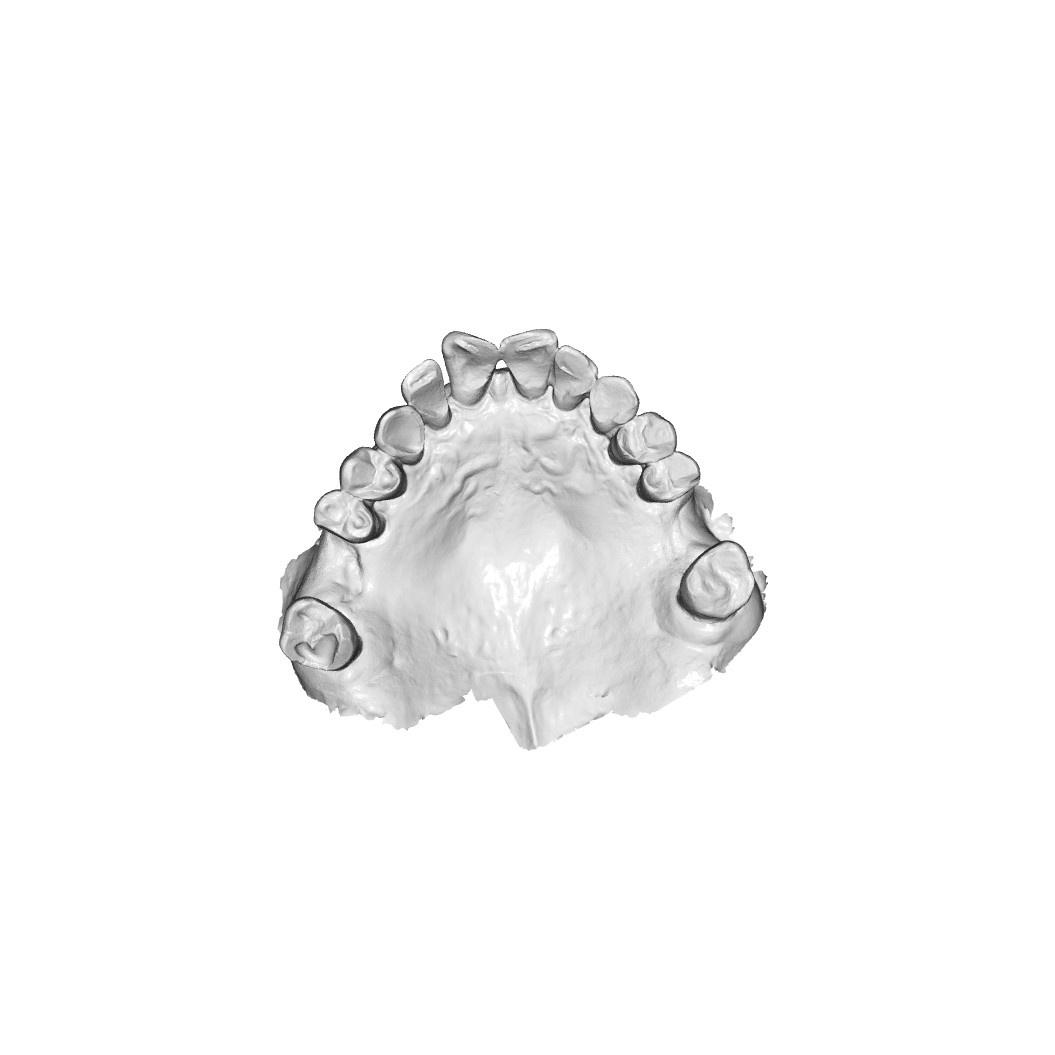canine: (372, 406, 431, 465), (588, 372, 640, 432)
incisor: (439, 326, 499, 408), (500, 328, 559, 399), (543, 342, 599, 412), (400, 356, 451, 424)
molar: (274, 597, 369, 672), (677, 538, 754, 622)
premolar: (641, 447, 703, 503), (314, 494, 378, 539), (340, 450, 401, 496), (616, 414, 675, 461)
